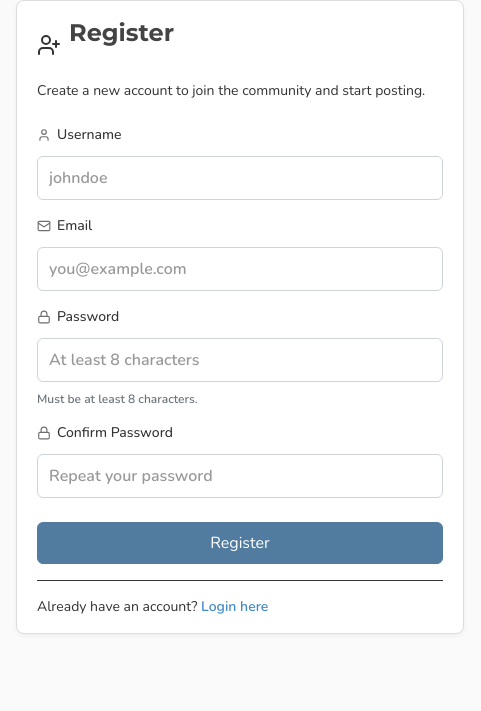
Test: app/register/page › surfaces duplicate username error message returned from adapter
The width and height of the screenshot is (481, 711).
Type "existinguser" into the field with placeholder "johndoe".
click(240, 178); type("existinguser")  # box [37,156,443,200]
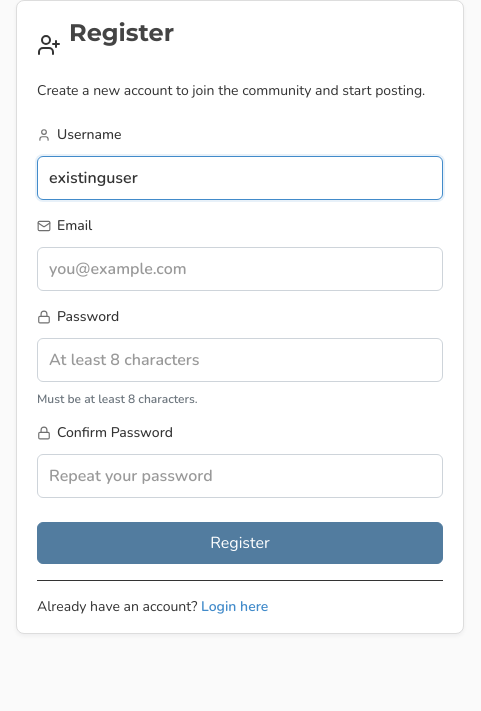
Type "user@example.com" into the field with placeholder "you@example.com".
click(240, 269); type("user@example.com")  # box [37,247,443,291]
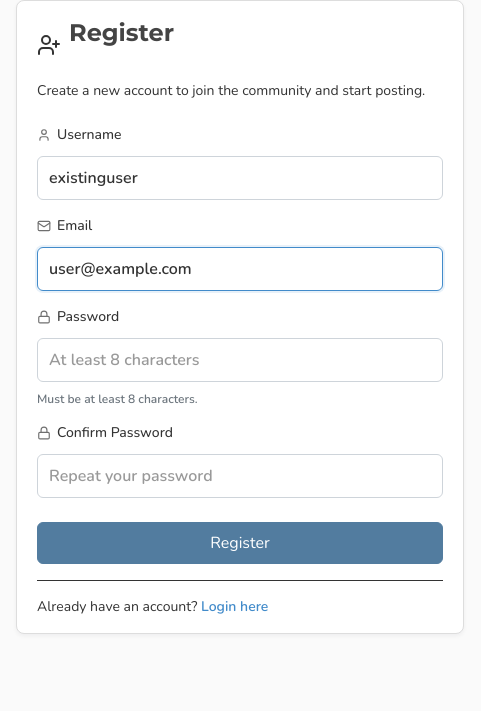
Type "password123" into the password field with placeholder "at least 8 characters".
click(240, 360); type("password123")  # box [37,338,443,382]
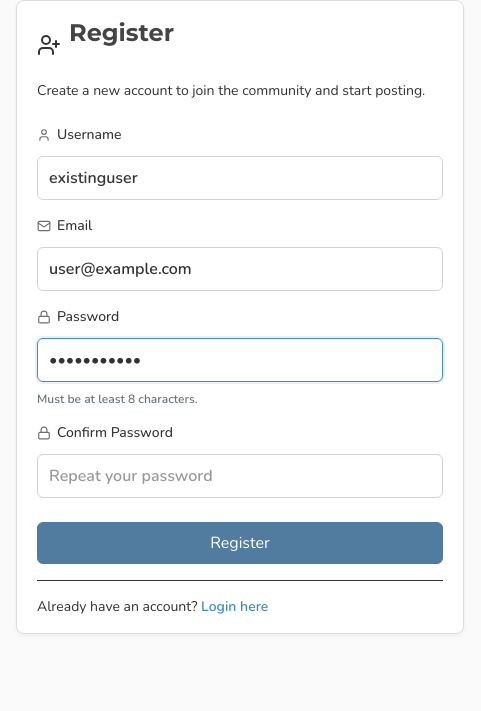
Type "password123" into the password field with placeholder "Repeat your password".
click(240, 476); type("password123")  # box [37,454,443,498]
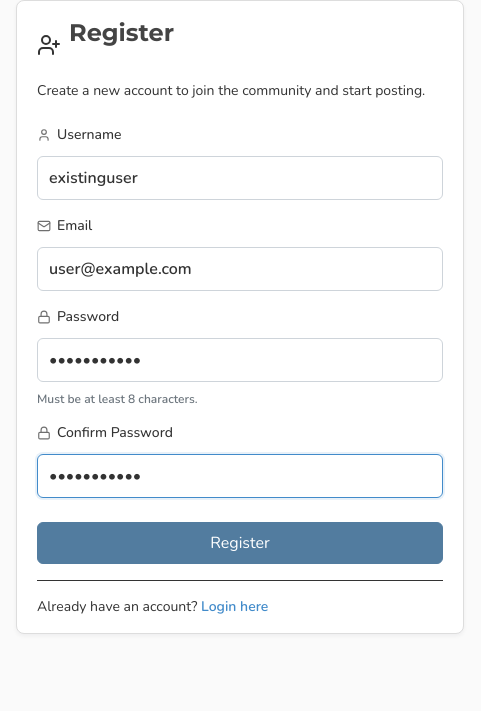
Click the button "Register".
click(240, 543)  # box [37,522,443,564]
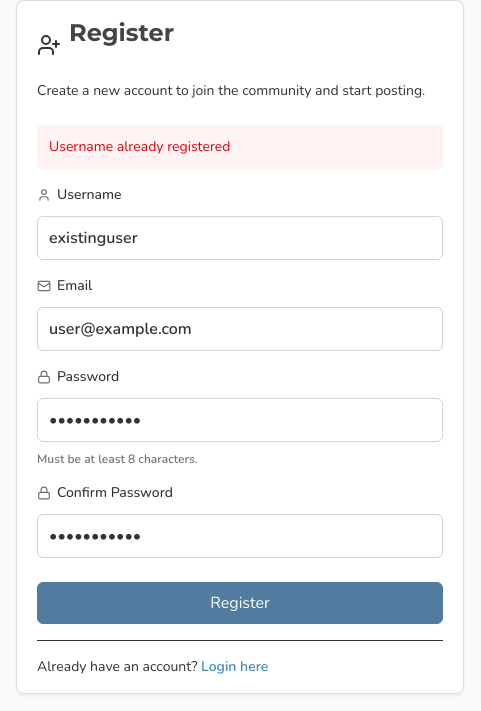
Expected: the text "Username already registered" is shown, [37,125,443,169]
